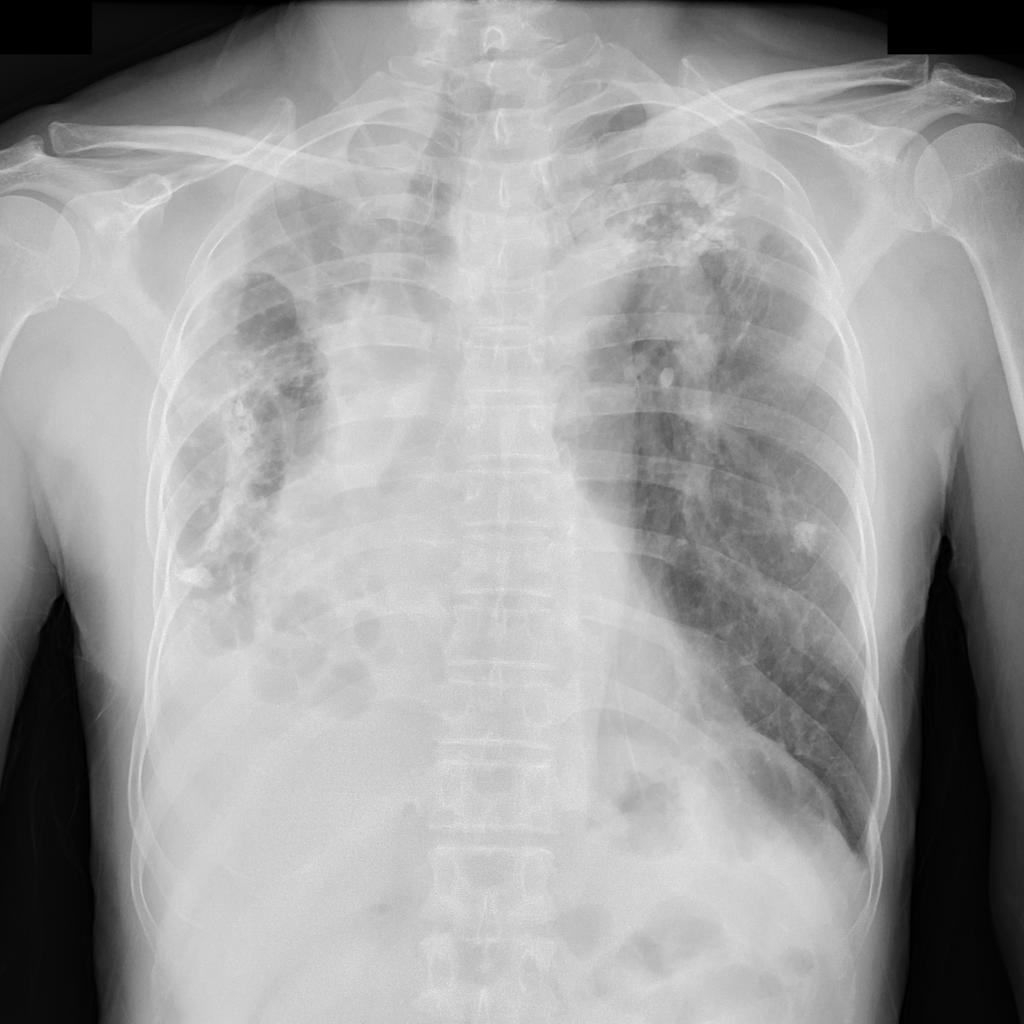Nodule: (181, 561, 219, 598), (788, 517, 821, 558)
